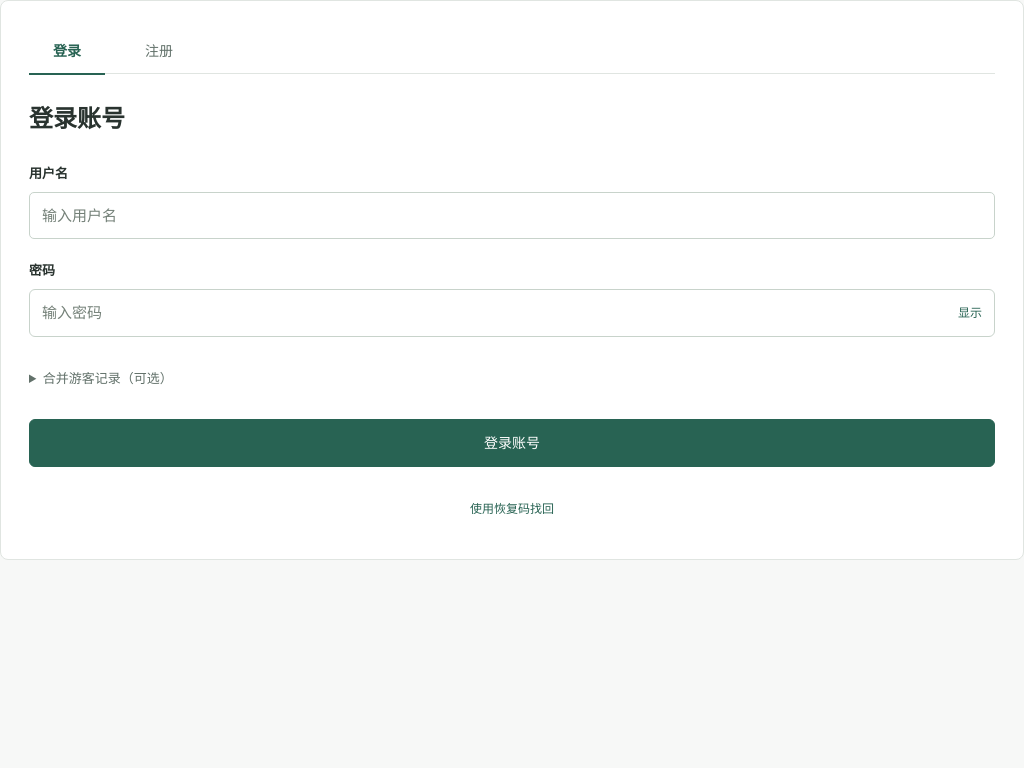
it: keeps optional guest merging collapsed and unselected by default
expect the field labelled "用户名" is shown: met, box [29,192,995,239]
expect the checkbox labelled "合并当前游客" is not shown: met
Click the heading "合并游客记录（可选）".
click(108, 378)  # box [43,370,173,386]
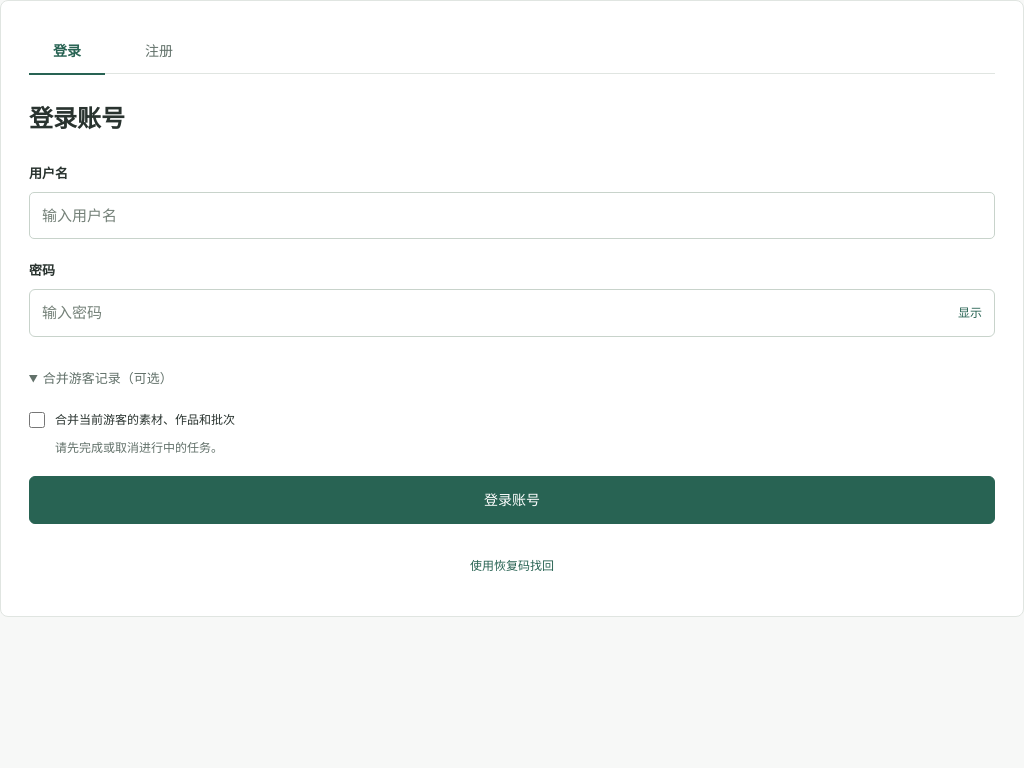
expect the checkbox labelled "合并当前游客的素材、作品和批次" is not checked: met, box [29,412,45,428]
